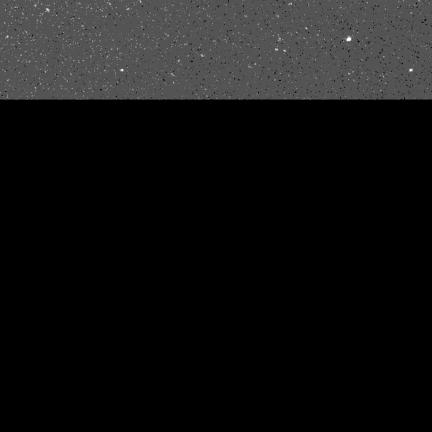blob: (346, 36, 351, 41), (120, 69, 125, 73), (409, 69, 413, 72)
